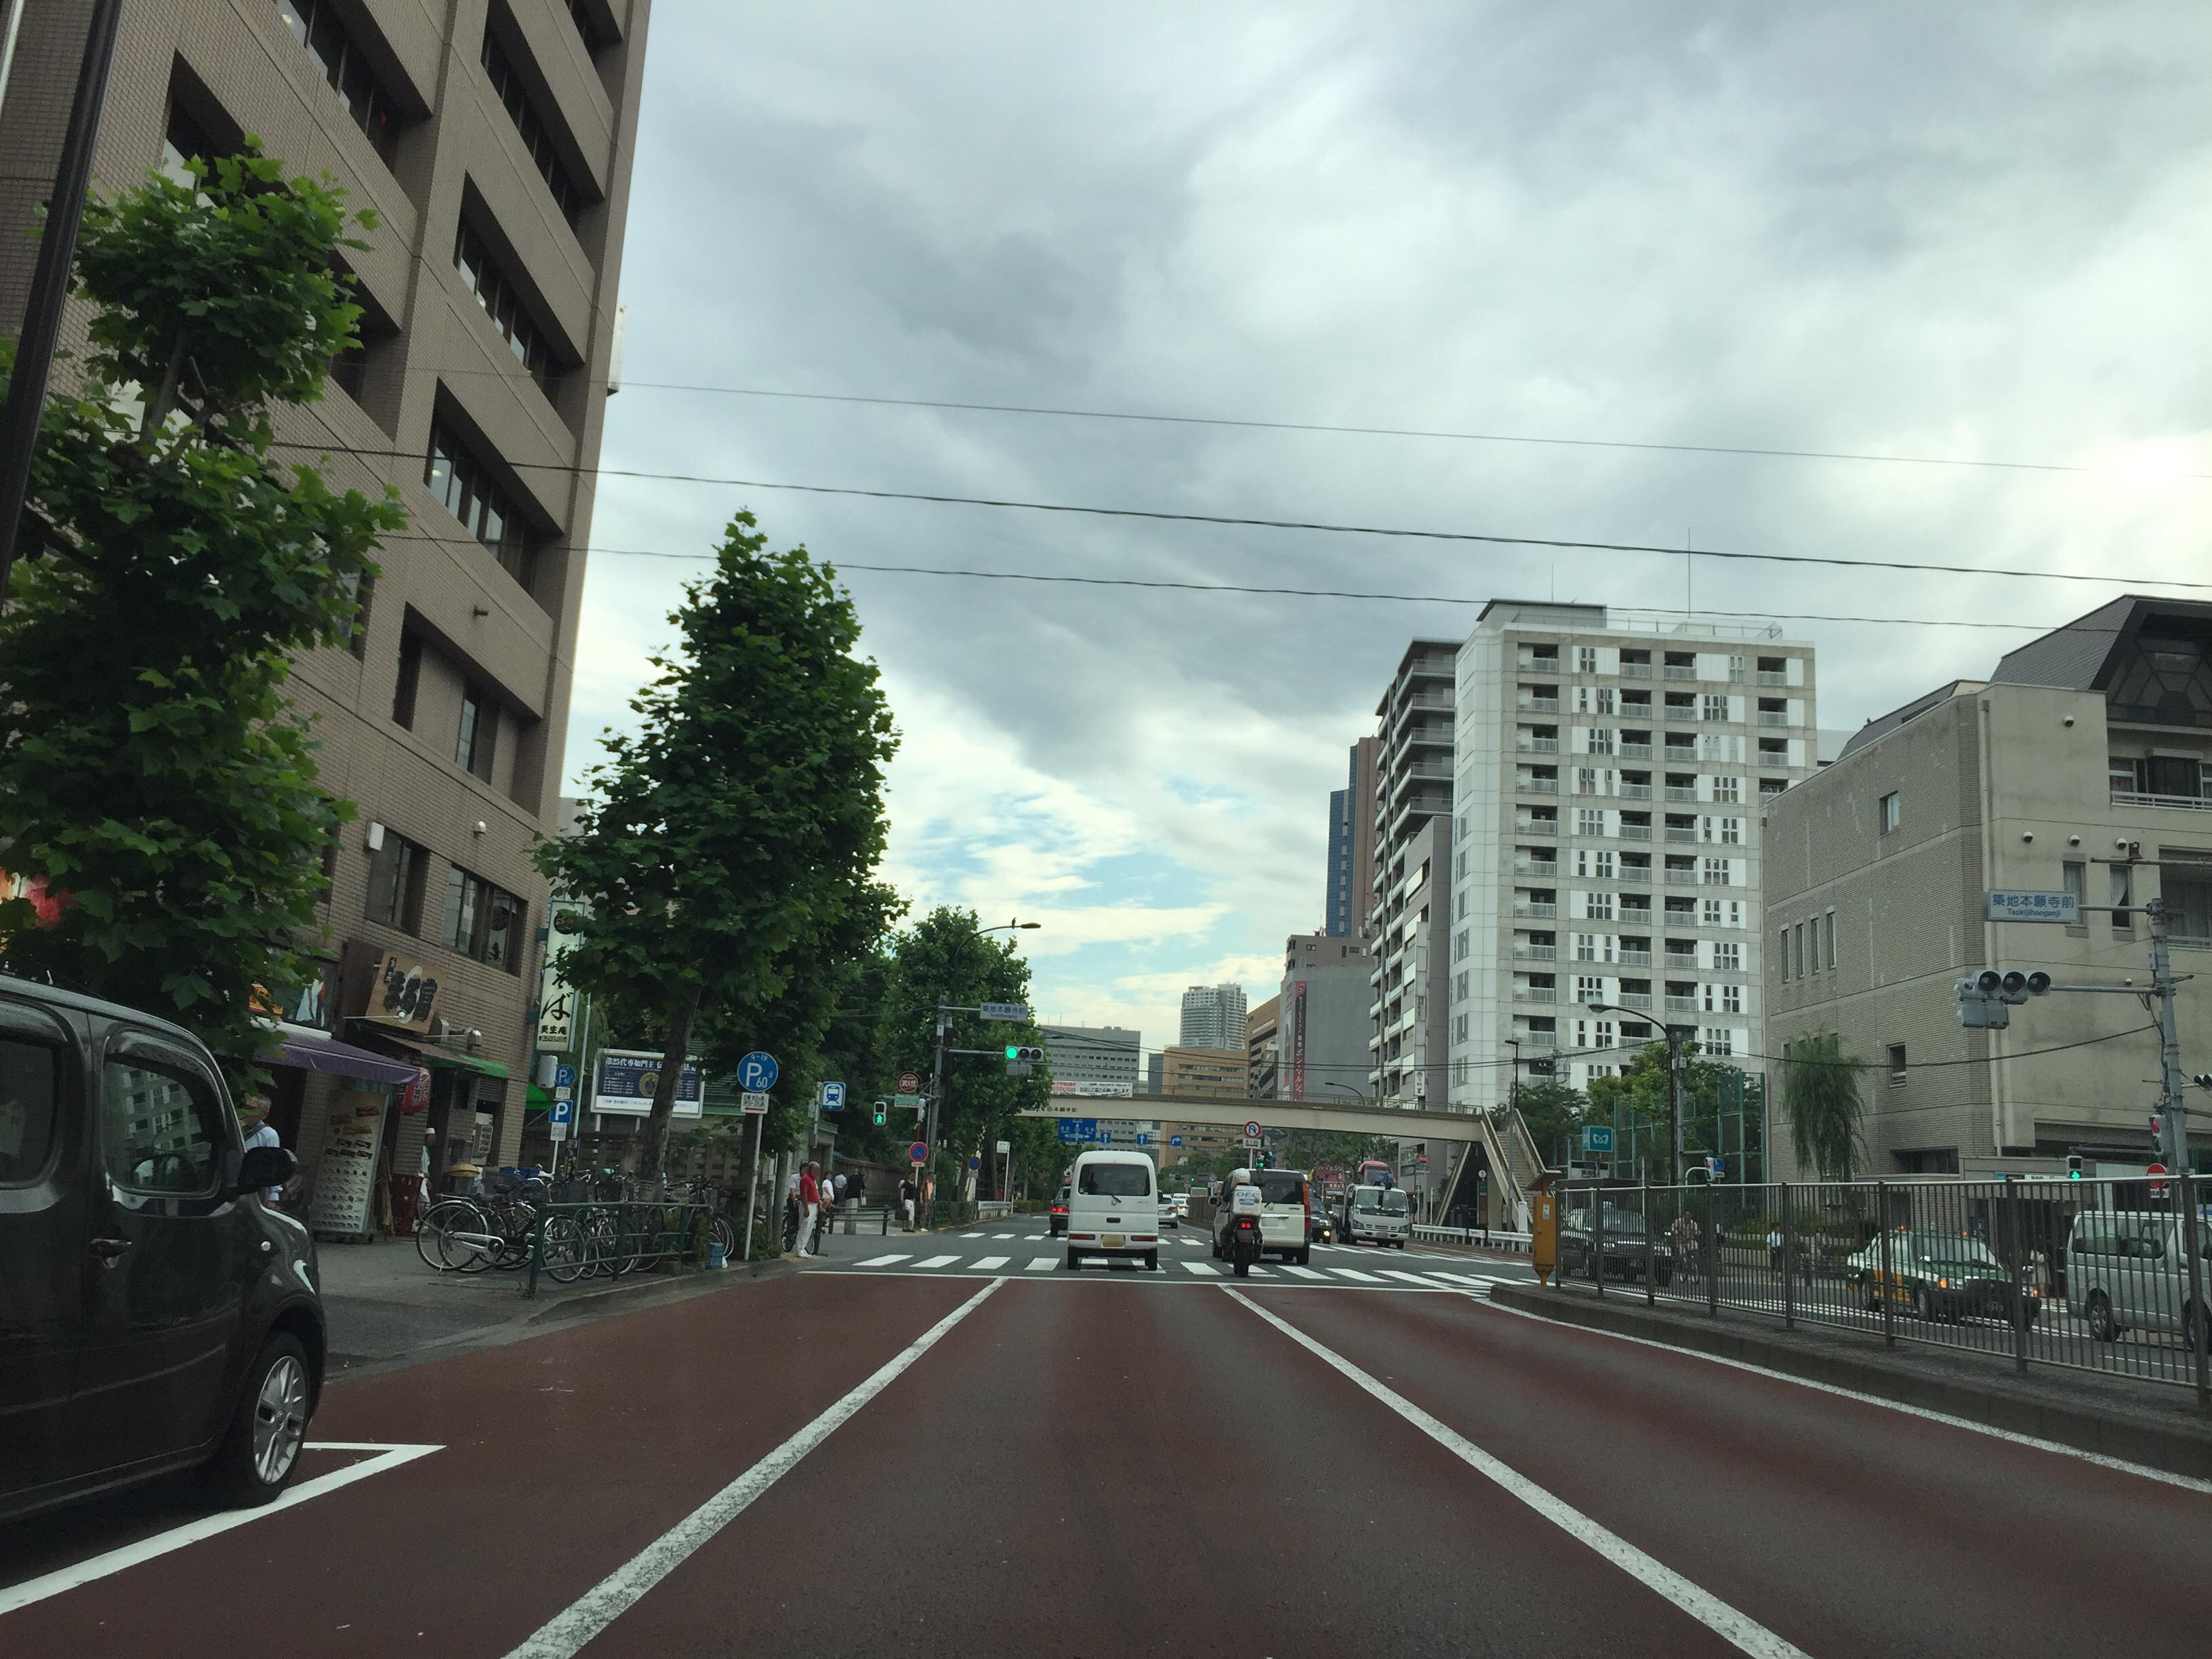vinyl banner: (1021, 1066, 1136, 1108)
